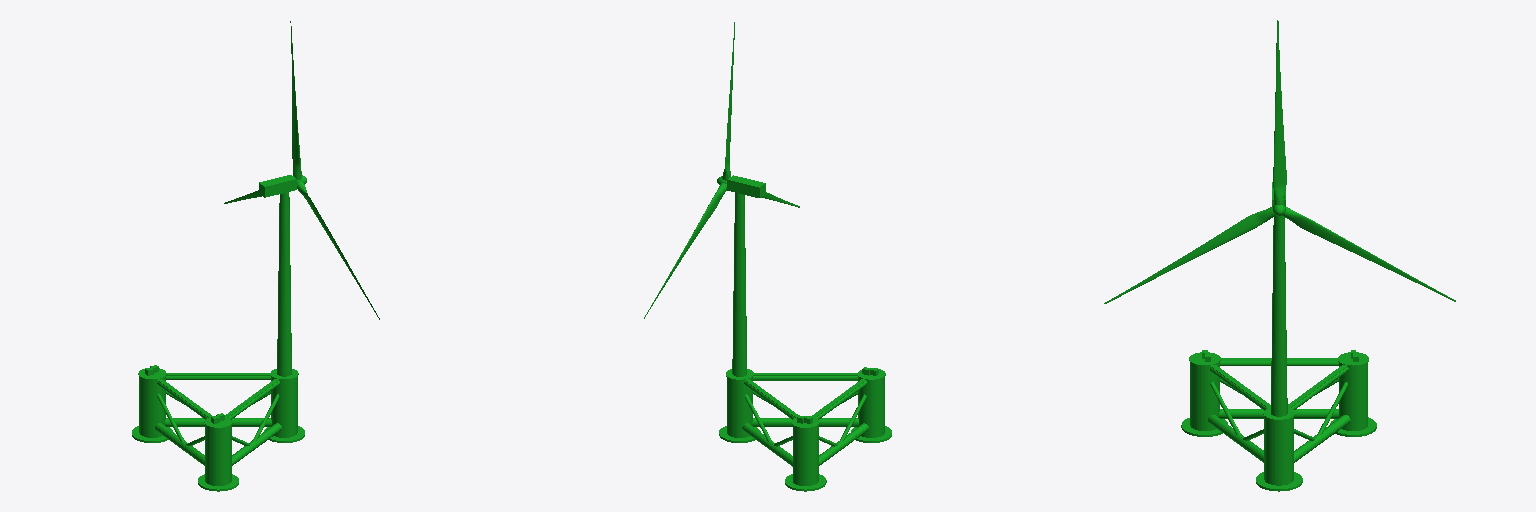
robot.urdf — floating_windturbine:
<?xml version="1.0"?>
<robot name="floating_windturbine">
  <link name="platform">
    <visual>
      <origin xyz="0 0 2.5" rpy="0 0 0"/>
      <geometry>
        <mesh filename="package://asv_simulator/models/floating_windturbine/meshes/floating_windturbine.stl" scale="0.5 0.5 0.5"/>
      </geometry>
      <material name="floating_windturbine_material">
        <color rgba="0.12 0.68 0.18 1"/>
      </material>
    </visual>
  </link>
</robot>

--- Facts derived from the render (not from the file) ---
Views: 3 orthographic renders of the robot side by side, from view 1: azimuth 30°, elevation 25°; view 2: azimuth 150°, elevation 25°; view 3: azimuth 270°, elevation 25°.
Model floating_windturbine with 1 links and 0 joints (none), rooted at platform, posed all joints at 0.
Visible links, largest first — view 1: platform; view 2: platform; view 3: platform.
Link boxes in pixels (x1,y1,x2,y2): platform: (132, 21, 379, 491); platform: (644, 22, 891, 491); platform: (1104, 20, 1455, 491).
Size in the robot's own frame: 36.53 by 71.2 by 103 metres.
Meshes: 1 distinct files referenced, 1 mesh visuals loaded (1 binary STL).
